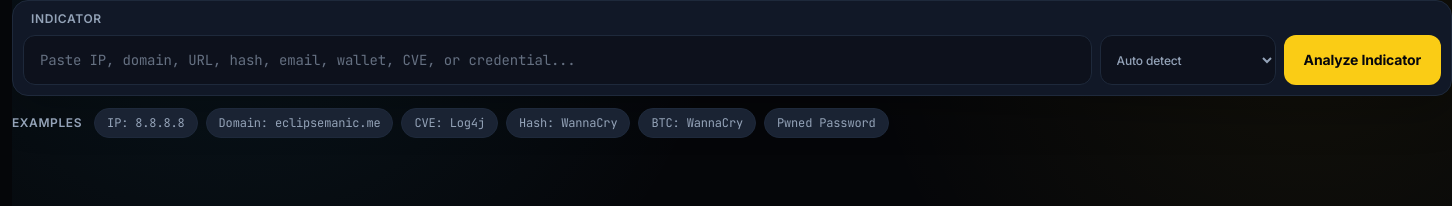
it: SearchBar › does not submit plaintext when Web Crypto is unavailable
Select "🔑 Password / Credential" in the dropdown named "IOC type": (1188, 60) left=1100, top=35, right=1276, bottom=85
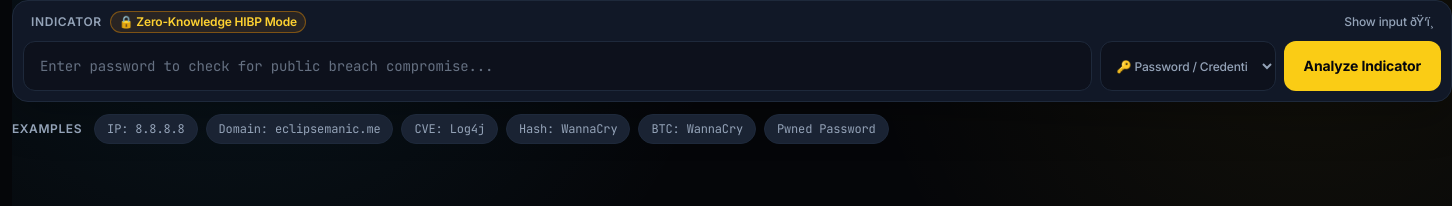
In the password field named "Search IOC": (557, 66) left=23, top=41, right=1092, bottom=91, type "S3cret!"
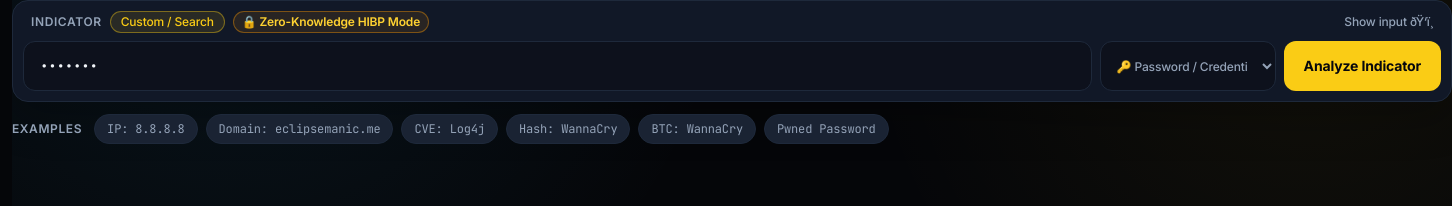
Click the button with aria-label "Submit search": (1362, 66) left=1284, top=41, right=1441, bottom=91
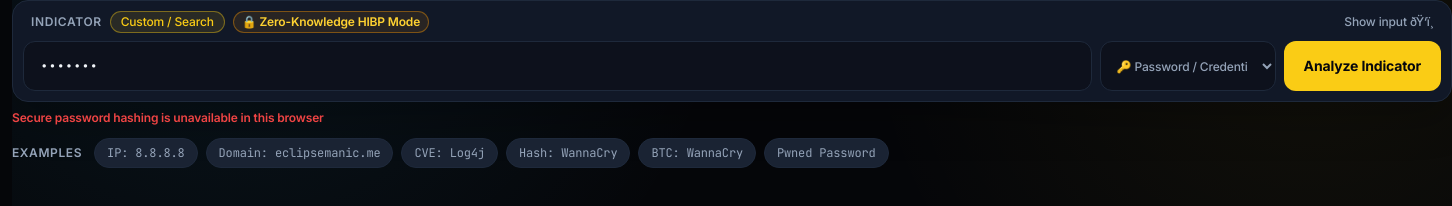
Now the text "Secure password hashing is unavailable in this browser" is shown, box left=12, top=110, right=324, bottom=125
